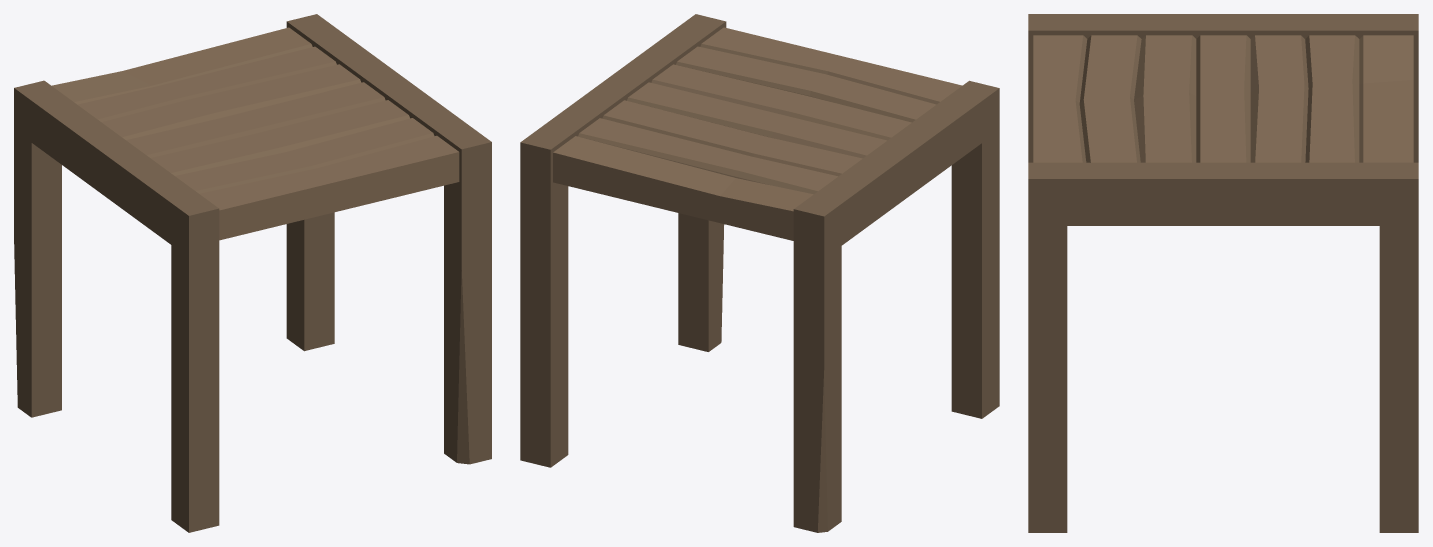
File: SM_Props_City_Beach_Table_03.fbx
The picture shows the model from 3 angles, left to right: view 1: azimuth 30°, elevation 25°; view 2: azimuth 150°, elevation 25°; view 3: azimuth 270°, elevation 25°; orthographic projection. The views are drawn at different scales.
Visible parts, largest first — view 1: SM_Props_City_Beach_Table_03; view 2: SM_Props_City_Beach_Table_03; view 3: SM_Props_City_Beach_Table_03.
Part boxes in pixels (<box>): SM_Props_City_Beach_Table_03: <box>14,14,491,532</box>; SM_Props_City_Beach_Table_03: <box>520,14,999,532</box>; SM_Props_City_Beach_Table_03: <box>1028,14,1418,532</box>.
Size of the model in its own units: 50 by 50 by 50.
